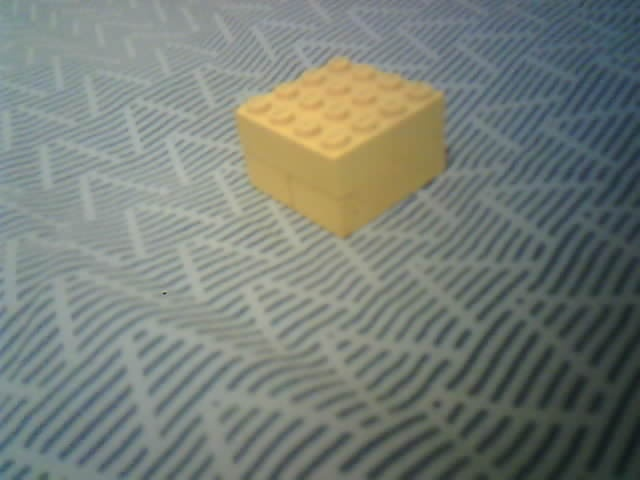lego: (234, 55, 447, 239)
